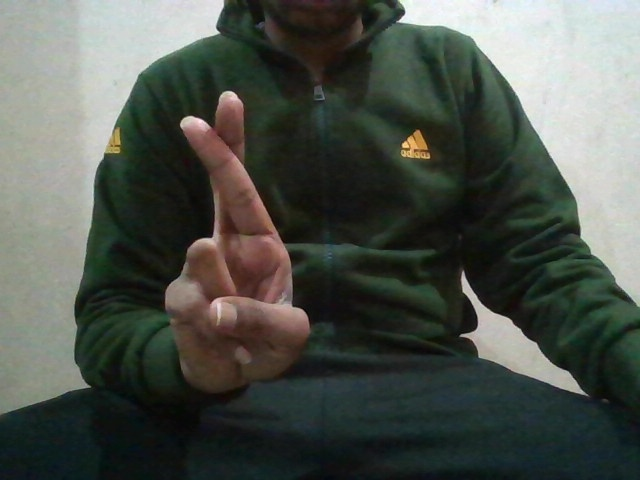R: (166, 91, 317, 400)
